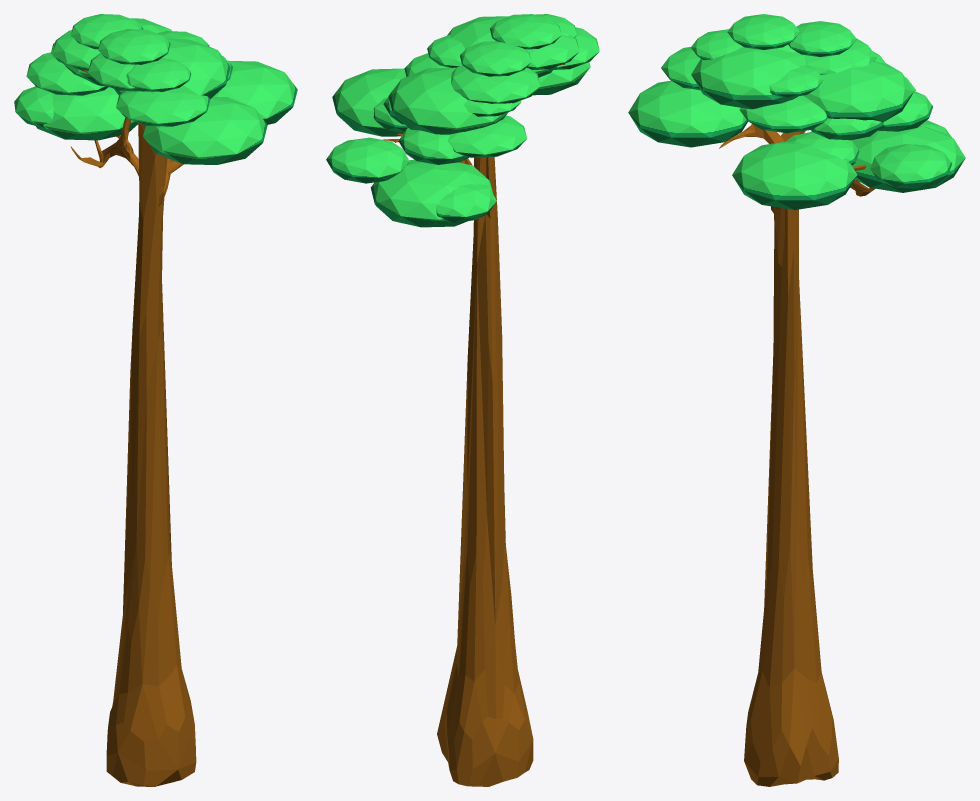
The model's file is LPNG1-Tree_04.fbx.
3 renders of one model, left to right at view 1: azimuth 30°, elevation 25°; view 2: azimuth 150°, elevation 25°; view 3: azimuth 270°, elevation 25°, orthographic.
Visible parts, largest first — view 1: Tree04; view 2: Tree04; view 3: Tree04.
Boxes of the visible parts, x1,y1,x2,y2 form: Tree04: (14, 14, 297, 786); Tree04: (326, 14, 599, 786); Tree04: (628, 14, 965, 786).
Size of the model in its own units: 445 by 1479 by 609.
